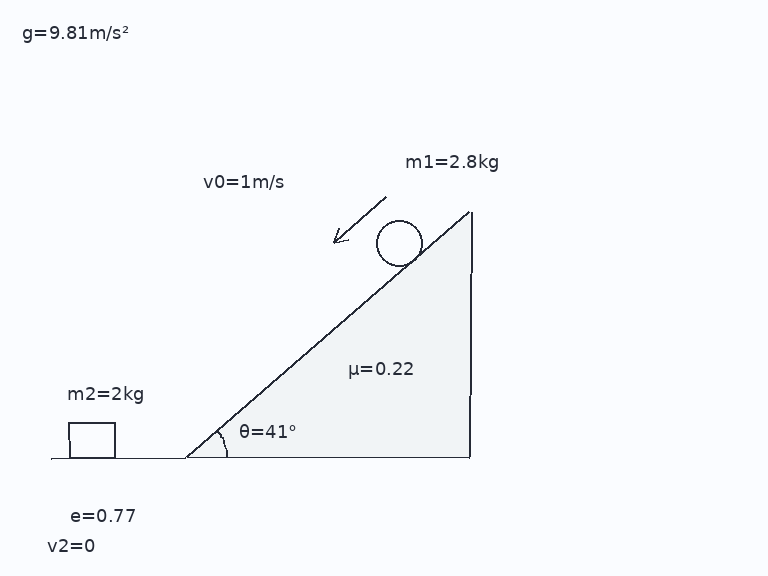ball: (374, 218, 424, 268)
block: (67, 421, 117, 459)
ramp: (185, 210, 471, 459)
